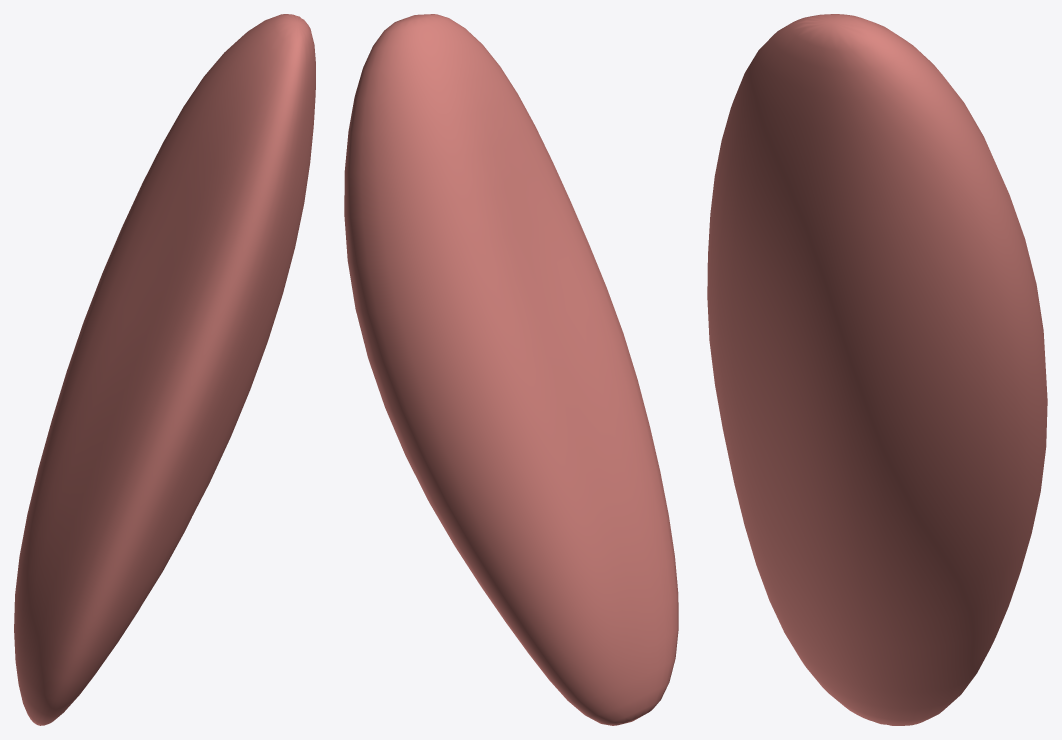
The picture shows the model from 3 angles, left to right: view 1: azimuth 30°, elevation 25°; view 2: azimuth 150°, elevation 25°; view 3: azimuth 270°, elevation 25°; orthographic projection. The views are drawn at different scales.
Parts seen in each view (by area): view 1: ZA_5f29b3d055dd2684; view 2: ZA_5f29b3d055dd2684; view 3: ZA_5f29b3d055dd2684.
Boxes of the visible parts, box(x1,y1,x2,y2) form: ZA_5f29b3d055dd2684: box(14, 14, 315, 725); ZA_5f29b3d055dd2684: box(344, 14, 678, 725); ZA_5f29b3d055dd2684: box(707, 14, 1047, 725).
Size of the model in its own units: 0.0122 by 0.0262 by 0.00948.
